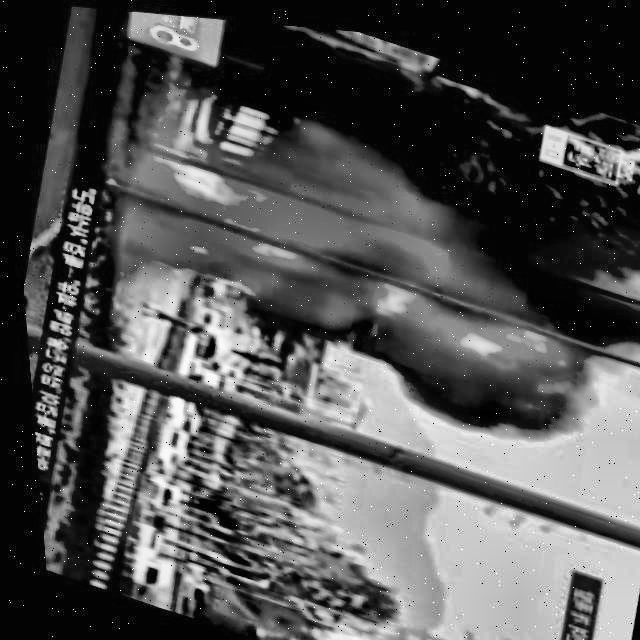Fire: (110, 90, 446, 342), (422, 288, 554, 369)
Smoke: (342, 310, 578, 453)
